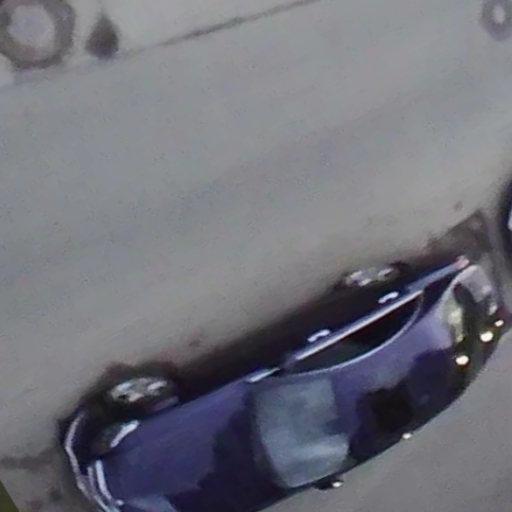Car: (60, 254, 500, 511)
